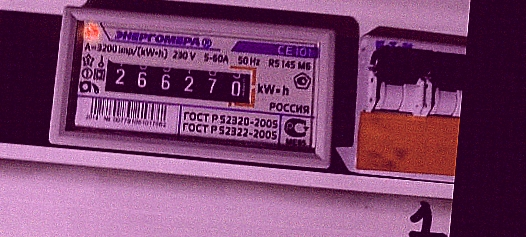0: (227, 77, 240, 98)
2: (111, 64, 127, 86), (181, 73, 194, 94)
6: (134, 68, 148, 89), (158, 70, 171, 90)
7: (204, 75, 217, 95)
screen: (89, 46, 267, 117)
